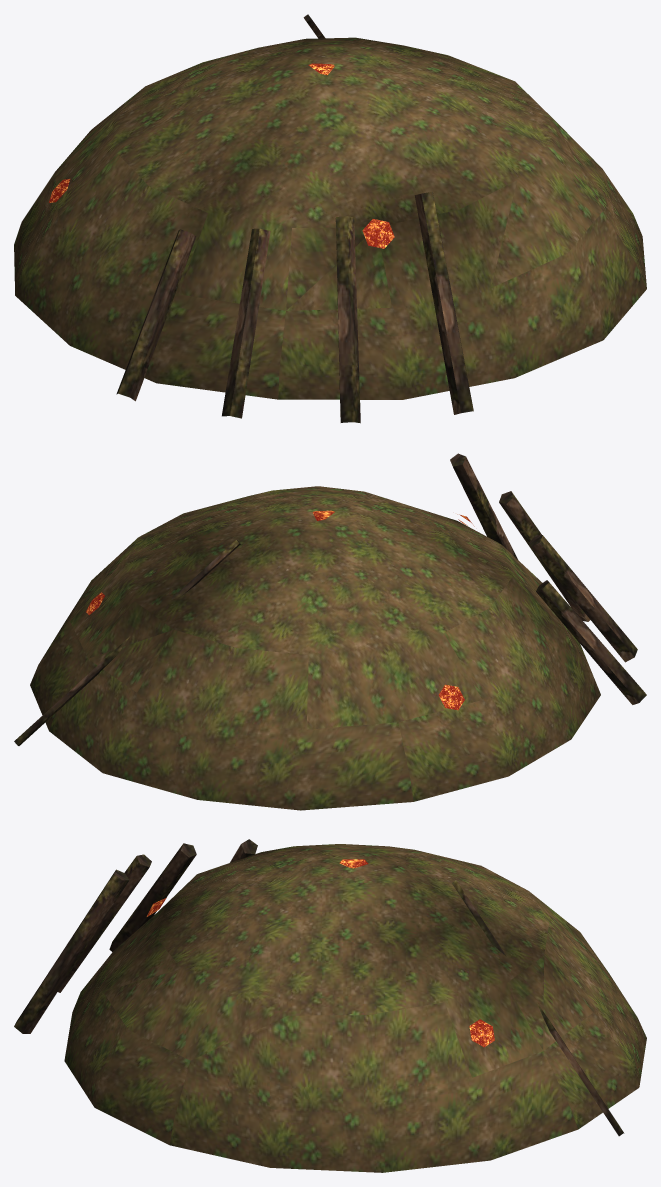
The model's file is camp_charcoal_clamp.glb.
The picture shows the model from 3 angles, top to bottom: view 1: azimuth 30°, elevation 25°; view 2: azimuth 150°, elevation 25°; view 3: azimuth 270°, elevation 25°; orthographic projection. The views are drawn at different scales.
Visible parts, largest first — view 1: camp_charcoal_clamp; view 2: camp_charcoal_clamp; view 3: camp_charcoal_clamp.
Part boxes in pixels (bbox=[...]): camp_charcoal_clamp: bbox=[14, 14, 646, 423]; camp_charcoal_clamp: bbox=[14, 453, 646, 810]; camp_charcoal_clamp: bbox=[14, 839, 646, 1172].
Bounding box in the file's own units: 3.57 × 1.25 × 3.77.
3 materials, 3 textured.
